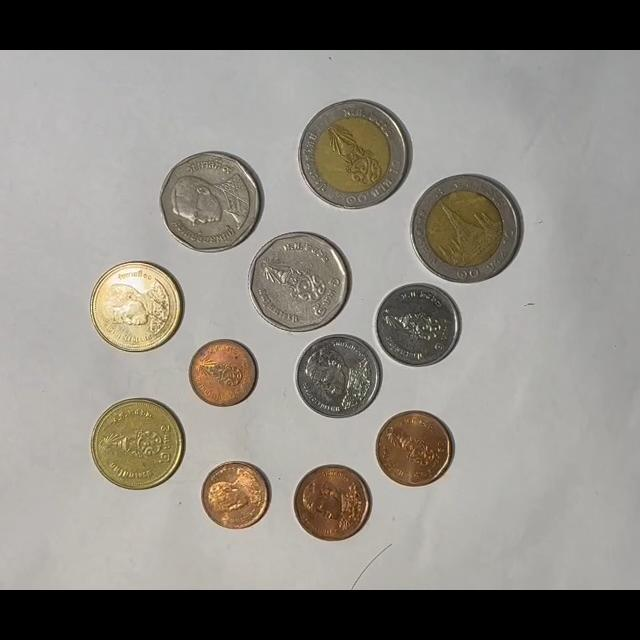1-baht: (374, 283, 461, 369), (294, 334, 381, 419)
10-baht: (298, 99, 411, 211), (410, 174, 522, 283)
2-baht: (90, 398, 185, 491), (89, 261, 182, 354)
25-satang: (200, 461, 272, 531), (188, 339, 258, 407)
5-baht: (159, 151, 263, 253), (249, 231, 351, 334)
50-satang: (293, 464, 372, 542), (375, 410, 454, 488)
